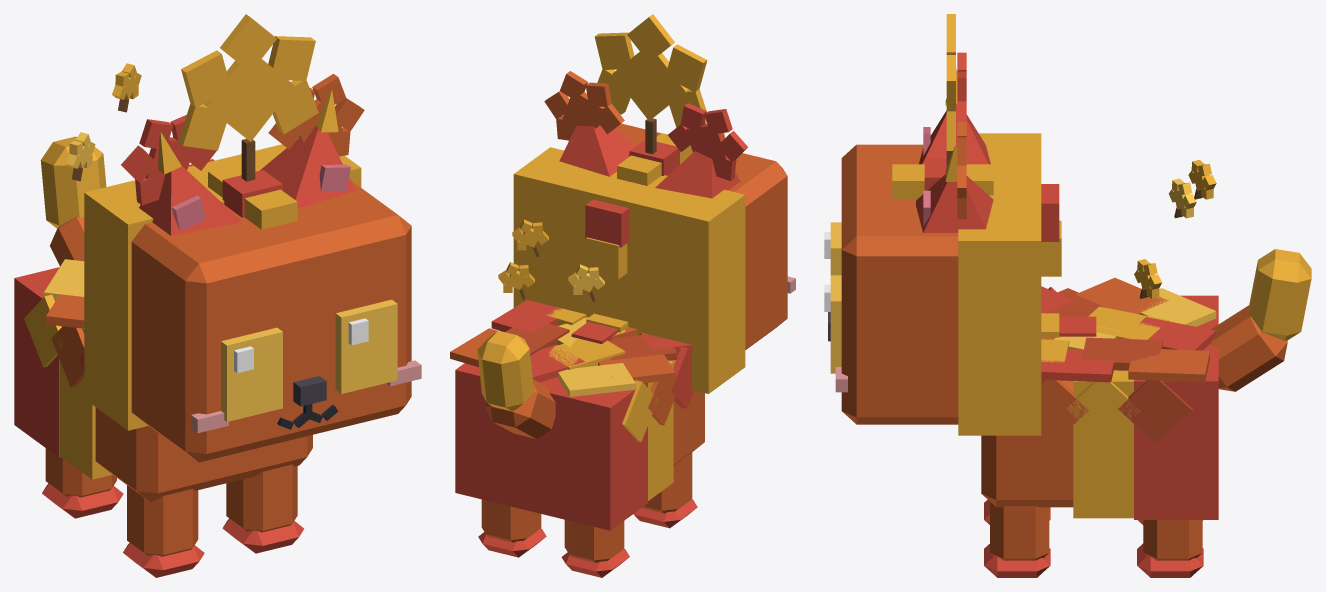
The model's file is CatCafe_Cat_MapleLeaf.fbx.
3 views of the same model, side by side, from view 1: azimuth 30°, elevation 25°; view 2: azimuth 150°, elevation 25°; view 3: azimuth 270°, elevation 25° (orthographic). The views are drawn at different scales.
Parts seen in each view (by area): view 1: CatCafe_Cat_MapleLeaf_Head, CatCafe_Cat_MapleLeaf_Body, CatCafe_Cat_MapleLeaf_Glow, CatCafe_Cat_MapleLeaf_Prop, CatCafe_Cat_MapleLeaf_LegF2, CatCafe_Cat_MapleLeaf_LegF1, CatCafe_Cat_MapleLeaf_Eye1, CatCafe_Cat_MapleLeaf_Eye2, CatCafe_Cat_MapleLeaf_Prop2, CatCafe_Cat_MapleLeaf_EarL, CatCafe_Cat_MapleLeaf_Tail, CatCafe_Cat_MapleLeaf_EarR (+2 smaller); view 2: CatCafe_Cat_MapleLeaf_Head, CatCafe_Cat_MapleLeaf_Body, CatCafe_Cat_MapleLeaf_Prop2, CatCafe_Cat_MapleLeaf_Glow, CatCafe_Cat_MapleLeaf_Prop, CatCafe_Cat_MapleLeaf_Tail, CatCafe_Cat_MapleLeaf_LegB2, CatCafe_Cat_MapleLeaf_LegB1, CatCafe_Cat_MapleLeaf_EarL, CatCafe_Cat_MapleLeaf_Leaves_Glow, CatCafe_Cat_MapleLeaf_LegF2, CatCafe_Cat_MapleLeaf_EarR; view 3: CatCafe_Cat_MapleLeaf_Head, CatCafe_Cat_MapleLeaf_Body, CatCafe_Cat_MapleLeaf_Prop2, CatCafe_Cat_MapleLeaf_Tail, CatCafe_Cat_MapleLeaf_LegF1, CatCafe_Cat_MapleLeaf_LegB1, CatCafe_Cat_MapleLeaf_EarL, CatCafe_Cat_MapleLeaf_Leaves_Glow, CatCafe_Cat_MapleLeaf_EarR, CatCafe_Cat_MapleLeaf_Prop, CatCafe_Cat_MapleLeaf_Glow, CatCafe_Cat_MapleLeaf_Eye1 (+1 smaller).
Part boxes in pixels (bbox=[...]): CatCafe_Cat_MapleLeaf_Head: bbox=[84, 144, 421, 462]; CatCafe_Cat_MapleLeaf_Body: bbox=[14, 267, 312, 501]; CatCafe_Cat_MapleLeaf_Glow: bbox=[178, 14, 318, 181]; CatCafe_Cat_MapleLeaf_Prop: bbox=[121, 74, 364, 205]; CatCafe_Cat_MapleLeaf_LegF2: bbox=[123, 485, 204, 577]; CatCafe_Cat_MapleLeaf_LegF1: bbox=[222, 464, 303, 553]; CatCafe_Cat_MapleLeaf_Eye1: bbox=[335, 299, 397, 393]; CatCafe_Cat_MapleLeaf_Eye2: bbox=[221, 327, 282, 421]; CatCafe_Cat_MapleLeaf_Prop2: bbox=[24, 259, 84, 387]; CatCafe_Cat_MapleLeaf_EarL: bbox=[259, 90, 355, 208]; CatCafe_Cat_MapleLeaf_Tail: bbox=[40, 136, 106, 266]; CatCafe_Cat_MapleLeaf_EarR: bbox=[139, 131, 241, 235]; CatCafe_Cat_MapleLeaf_Head: bbox=[513, 123, 795, 393]; CatCafe_Cat_MapleLeaf_Body: bbox=[455, 313, 704, 530]; CatCafe_Cat_MapleLeaf_Prop2: bbox=[450, 300, 693, 441]; CatCafe_Cat_MapleLeaf_Glow: bbox=[594, 14, 707, 154]; CatCafe_Cat_MapleLeaf_Prop: bbox=[544, 71, 747, 180]; CatCafe_Cat_MapleLeaf_Tail: bbox=[477, 330, 555, 438]; CatCafe_Cat_MapleLeaf_LegB2: bbox=[561, 520, 629, 577]; CatCafe_Cat_MapleLeaf_LegB1: bbox=[478, 499, 546, 557]; CatCafe_Cat_MapleLeaf_EarL: bbox=[559, 92, 635, 176]; CatCafe_Cat_MapleLeaf_Leaves_Glow: bbox=[498, 219, 604, 301]; CatCafe_Cat_MapleLeaf_LegF2: bbox=[633, 452, 697, 528]; CatCafe_Cat_MapleLeaf_EarR: bbox=[655, 133, 740, 198]; CatCafe_Cat_MapleLeaf_Head: bbox=[828, 133, 1061, 435]; CatCafe_Cat_MapleLeaf_Body: bbox=[981, 295, 1218, 519]; CatCafe_Cat_MapleLeaf_Prop2: bbox=[1041, 277, 1216, 443]; CatCafe_Cat_MapleLeaf_Tail: bbox=[1209, 249, 1311, 391]; CatCafe_Cat_MapleLeaf_LegF1: bbox=[984, 502, 1050, 577]; CatCafe_Cat_MapleLeaf_LegB1: bbox=[1137, 520, 1203, 577]; CatCafe_Cat_MapleLeaf_EarL: bbox=[916, 145, 993, 232]; CatCafe_Cat_MapleLeaf_Leaves_Glow: bbox=[1134, 159, 1216, 298]; CatCafe_Cat_MapleLeaf_EarR: bbox=[919, 68, 990, 164]; CatCafe_Cat_MapleLeaf_Prop: bbox=[957, 52, 966, 219]; CatCafe_Cat_MapleLeaf_Glow: bbox=[946, 14, 955, 166]; CatCafe_Cat_MapleLeaf_Eye1: bbox=[824, 275, 841, 373].
Size of the model in its own units: 1.06 by 2.38 by 1.97.
1 material, 1 textured.
